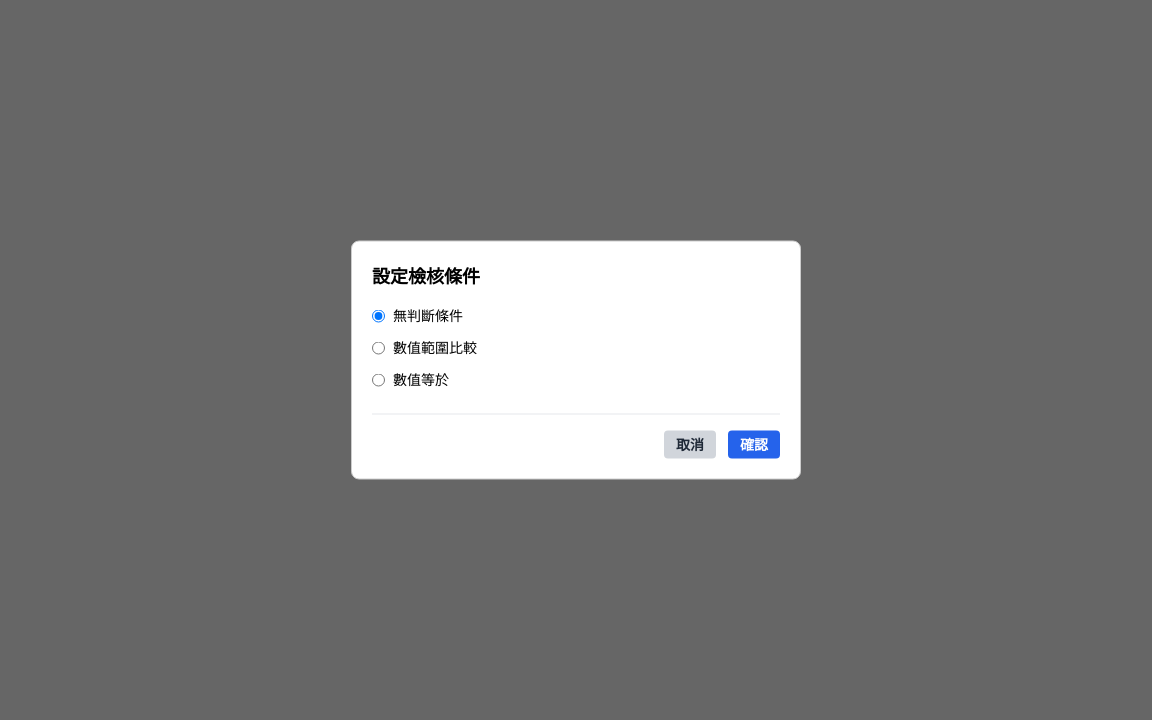
Test: ValidationRuleModal Component › 選項切換 › 選擇數值範圍比較時應該顯示範圍輸入欄
This screenshot has width=1152, height=720.
Click the radio button labelled "數值範圍比較" at {"x": 378, "y": 348}, box [372, 341, 385, 354]
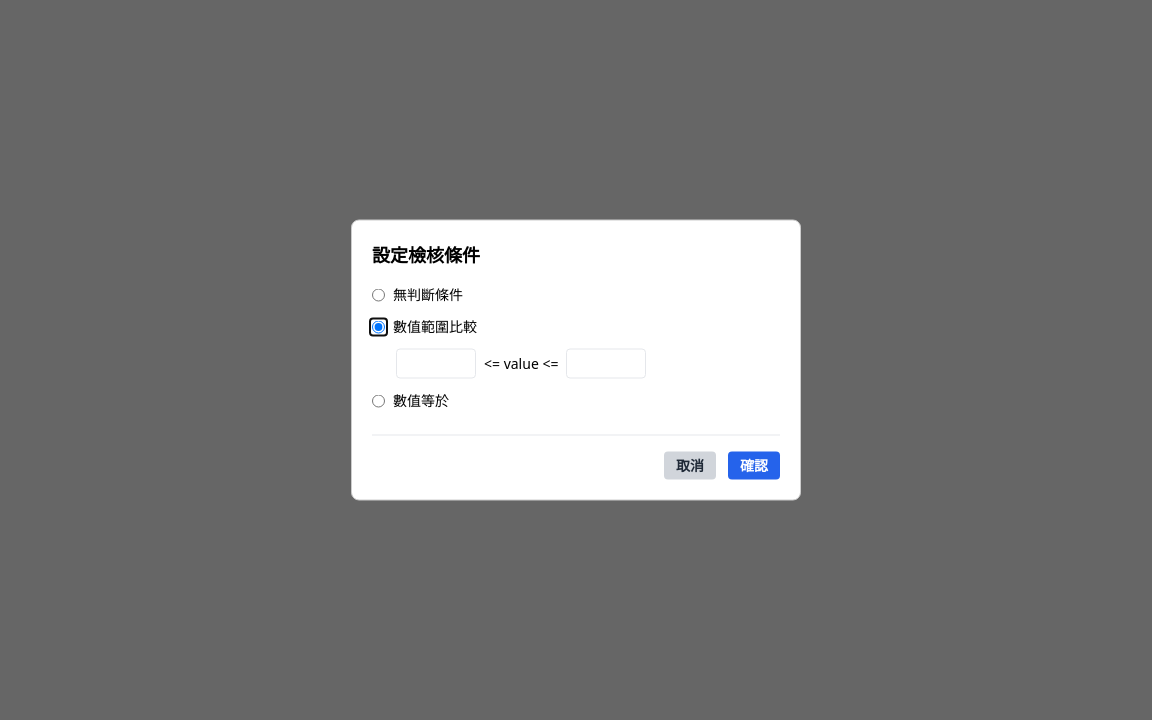
Expected: the radio button labelled "數值範圍比較" is checked, [372, 320, 385, 333]
Expected: the number of number fields is 2, [396, 348, 476, 378]; [566, 348, 646, 378]
Expected: the text "<= value <=" is shown, [484, 354, 558, 374]
